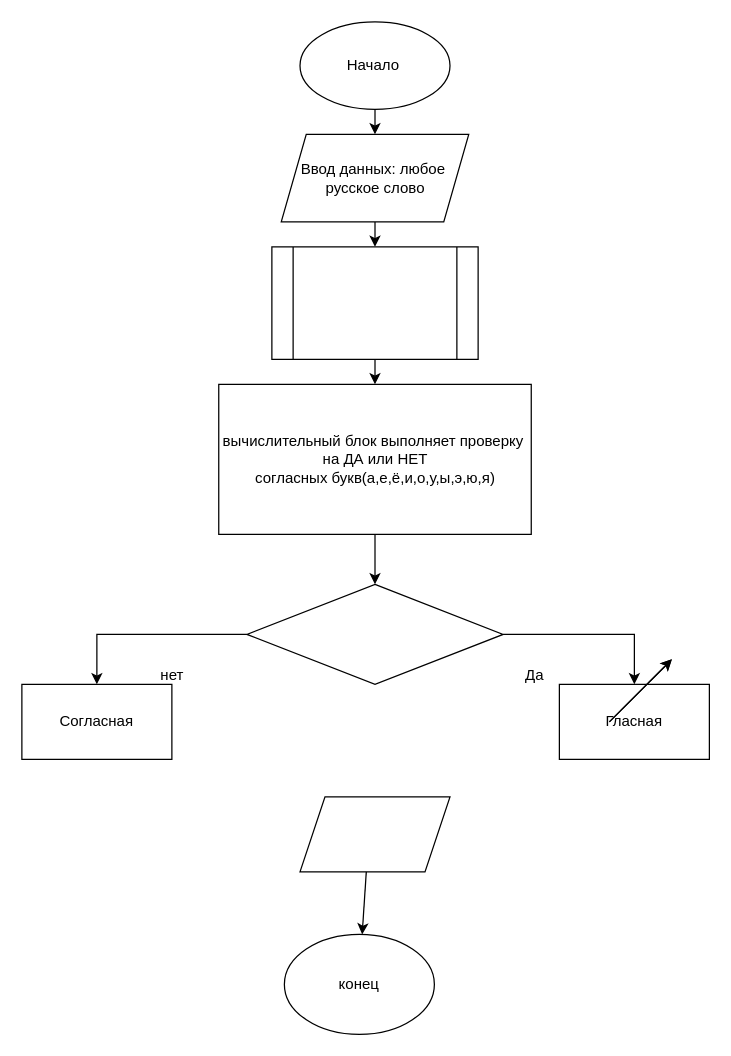
This 731x1056 diagram has some shape labels left out. Each missing label, with the centre of its shape:
"вывод результатов" belongs at [374,834].
"итог проверки" belongs at [374,633].
"с помощь алгоритма last_letter получаем последнюю букву в слове" belongs at [374,302].
